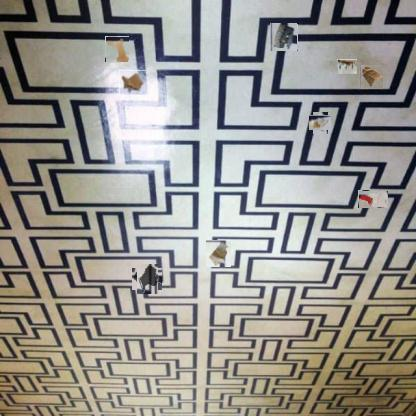dirty: (270, 24, 298, 51), (205, 240, 231, 267), (119, 70, 146, 95), (359, 65, 383, 89), (358, 191, 388, 209), (311, 114, 330, 132), (337, 59, 357, 74)
liquid: (134, 266, 160, 292), (105, 36, 129, 62)
